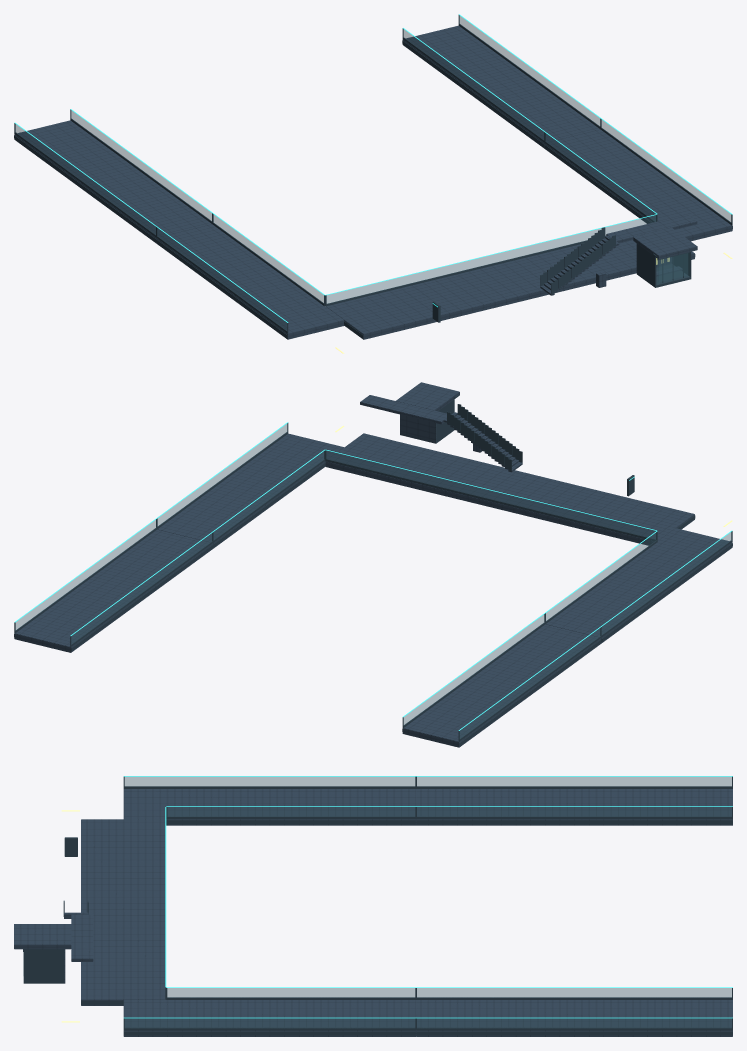
File: v02-detailed-00-05.glb
3 views of the same model, one above another, from view 1: azimuth 30°, elevation 25°; view 2: azimuth 150°, elevation 25°; view 3: azimuth 270°, elevation 25° (orthographic). The views are drawn at different scales.
Visible parts, largest first — view 1: v02-detailed-00-05; view 2: v02-detailed-00-05; view 3: v02-detailed-00-05.
Boxes of the visible parts, x1,y1,x2,y2 form: v02-detailed-00-05: (14, 14, 732, 353); v02-detailed-00-05: (14, 382, 732, 747); v02-detailed-00-05: (14, 776, 732, 1036).
Size of the model in its own units: 47.1 by 5.16 by 59.
Materials: 5 (1 with a texture image).
